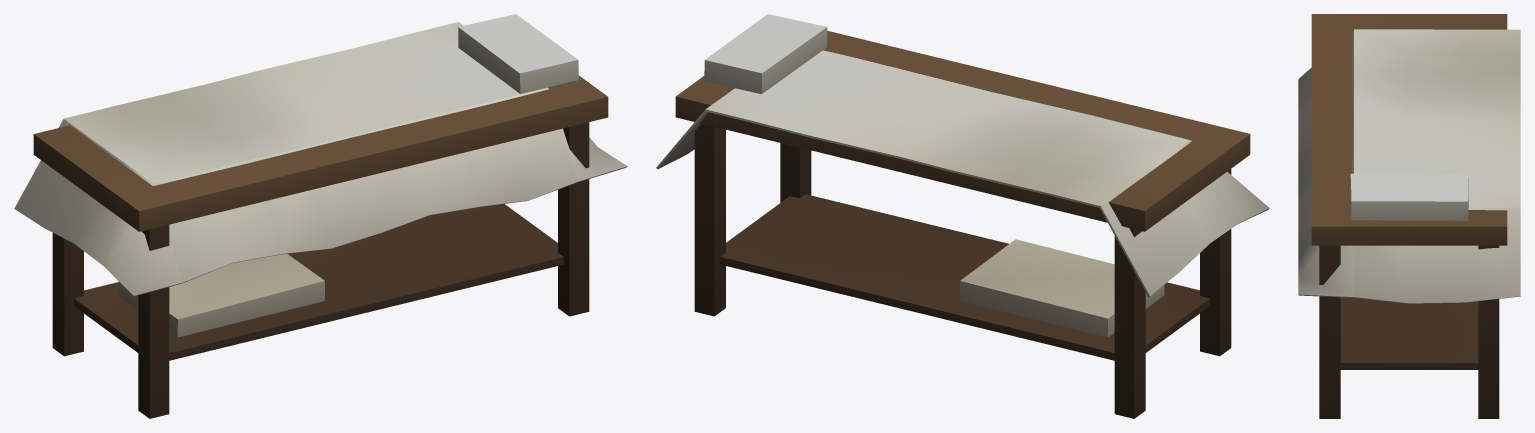
Rendered from ph_int_surgery_table.glb.
3 renders of one model, left to right at view 1: azimuth 30°, elevation 25°; view 2: azimuth 150°, elevation 25°; view 3: azimuth 270°, elevation 25°, orthographic. The views are drawn at different scales.
Visible parts, largest first — view 1: ph_int_surgery_table; view 2: ph_int_surgery_table; view 3: ph_int_surgery_table.
Boxes of the visible parts, box(x1,y1,x2,y2) form: ph_int_surgery_table: box(14, 14, 627, 418); ph_int_surgery_table: box(656, 14, 1269, 418); ph_int_surgery_table: box(1298, 14, 1520, 418).
Bounding box in the file's own units: 2 × 0.9241 × 0.8403.
